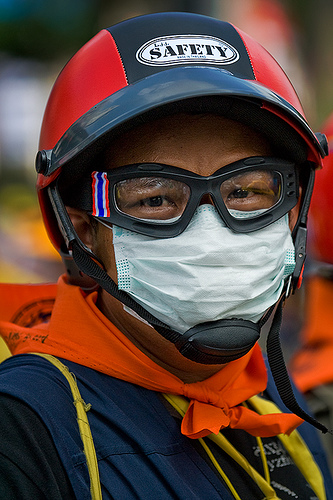helmet: (33, 17, 321, 189)
